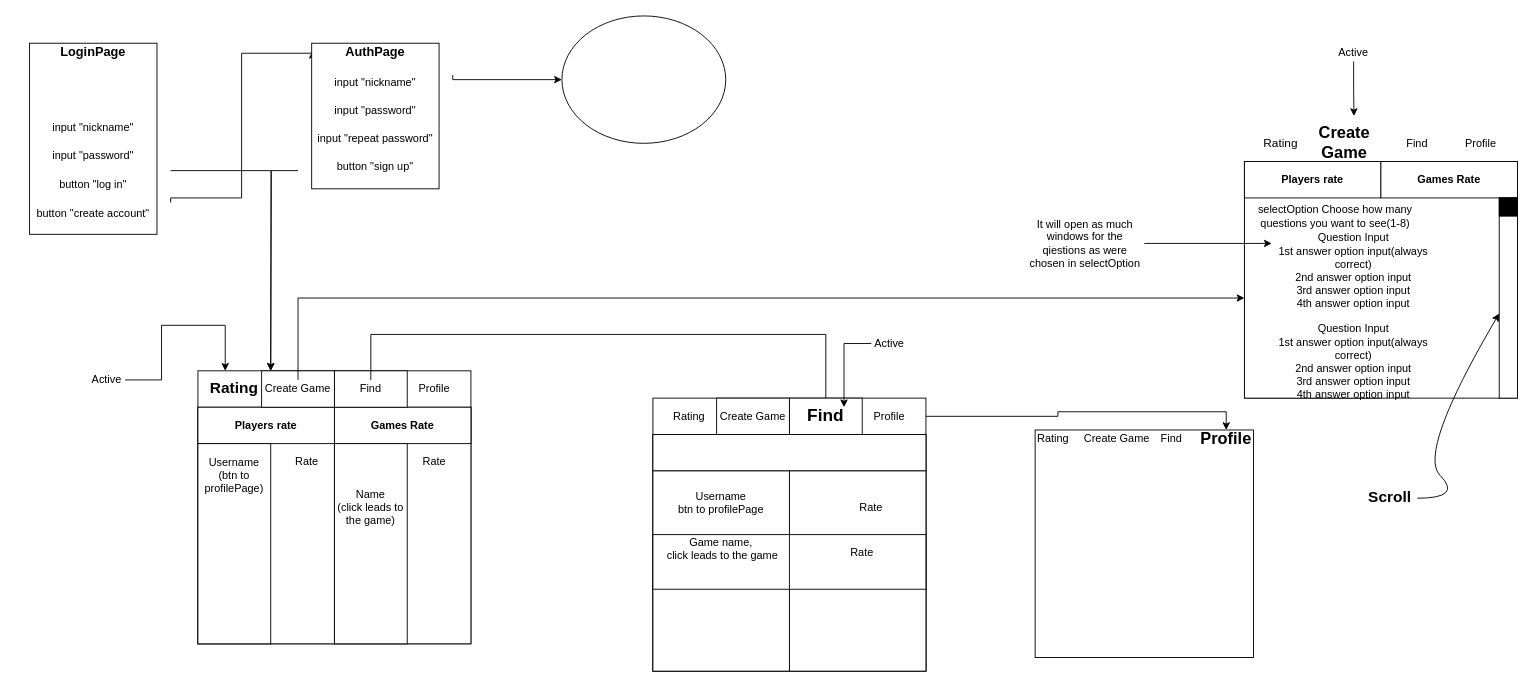
Image size: 1533x687. Some labels were removed from this diagram. The shapes that lost their labels are listed below. From the top down, each one's box as (x1, y1, x2, y2) in pixels, then its label:
(561, 15, 726, 143): ALERT: this nickname is already in the database!
(652, 434, 926, 471): Search bar
(1034, 429, 1254, 657): Edit password log out my games: their names and rates in the table
